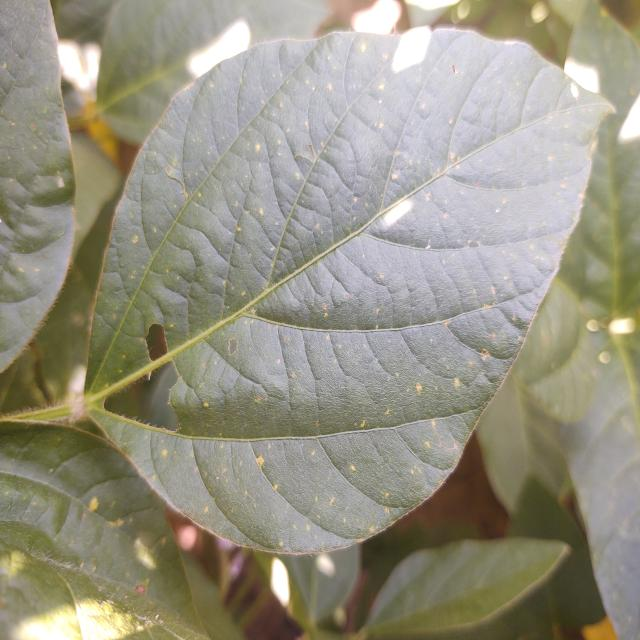Soybean: (0, 25, 640, 640)
downey_mildew: (48, 178, 133, 400), (399, 30, 498, 192), (243, 433, 386, 544), (132, 113, 207, 323), (425, 155, 589, 251), (51, 494, 180, 613), (312, 320, 433, 437), (432, 231, 568, 335), (145, 430, 230, 531), (333, 227, 419, 323), (220, 189, 286, 301), (5, 187, 72, 260), (0, 0, 55, 86), (0, 474, 66, 538), (98, 97, 162, 146), (220, 547, 258, 616), (284, 355, 319, 417), (29, 175, 73, 209)
